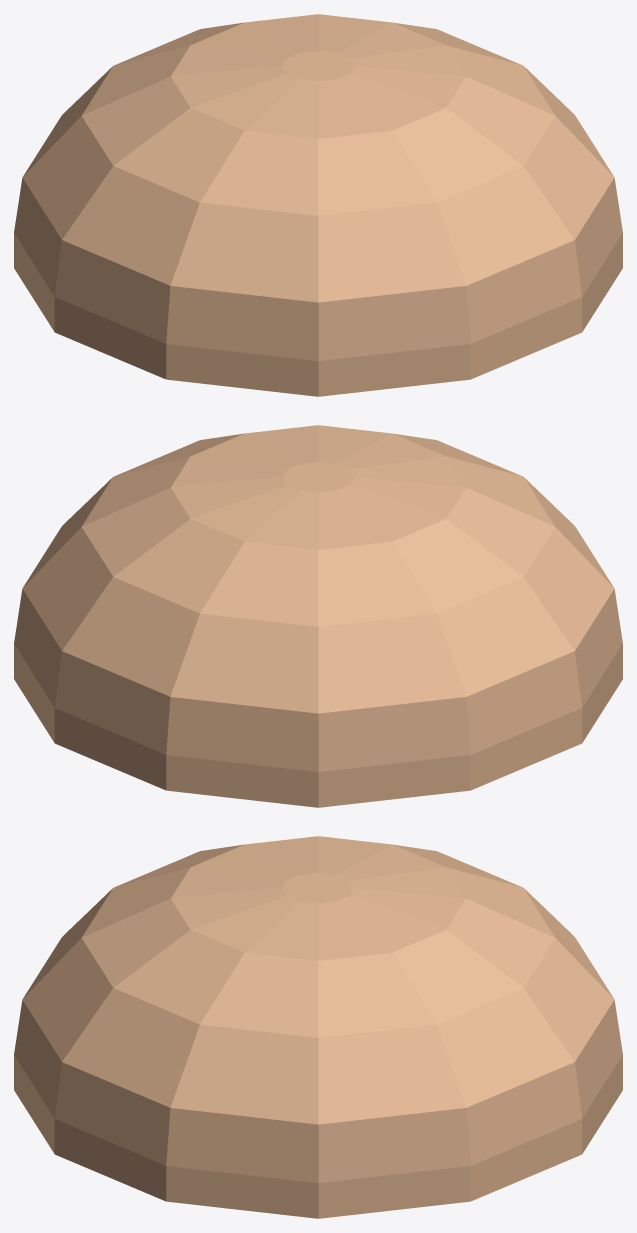
File: topBun.fbx
3 views of the same model, one above another, from view 1: azimuth 30°, elevation 25°; view 2: azimuth 150°, elevation 25°; view 3: azimuth 270°, elevation 25° (orthographic).
Visible parts, largest first — view 1: Cylinder; view 2: Cylinder; view 3: Cylinder.
Boxes of the visible parts, bbox=[...] form: Cylinder: bbox=[14, 14, 622, 396]; Cylinder: bbox=[14, 425, 622, 807]; Cylinder: bbox=[14, 836, 622, 1218].
Size of the model in its own units: 200 by 73.22 by 200.
